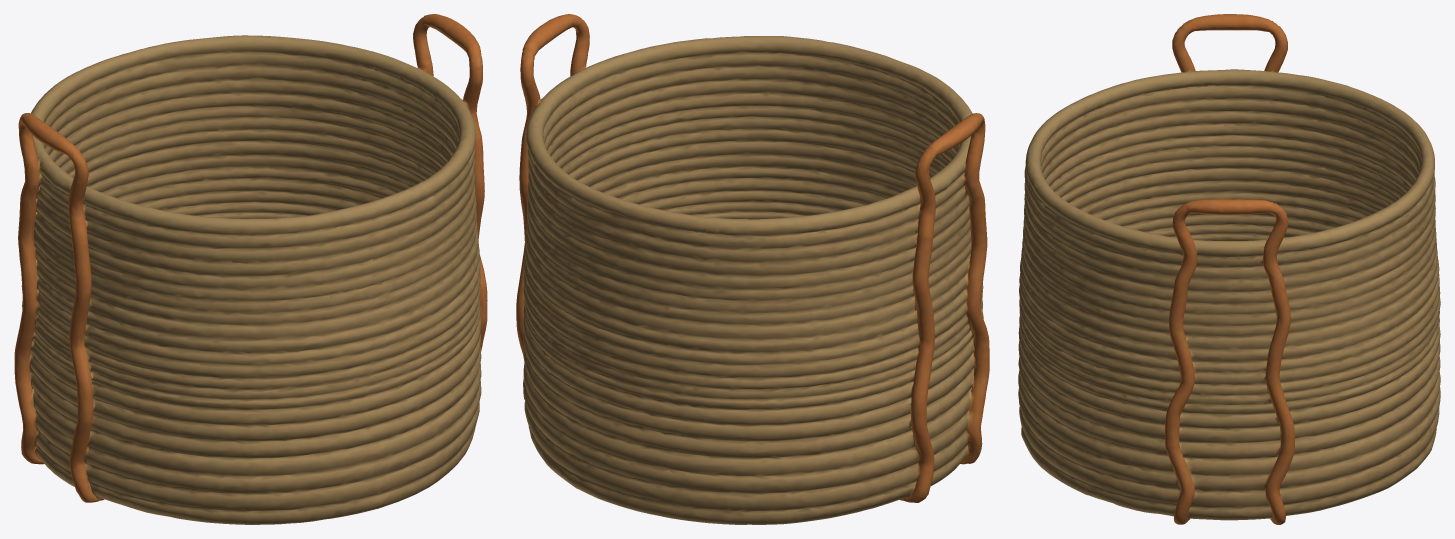
Rendered from niche-basket-coiled-fiber-optimized.glb.
The picture shows the model from 3 angles, left to right: view 1: azimuth 30°, elevation 25°; view 2: azimuth 150°, elevation 25°; view 3: azimuth 270°, elevation 25°; orthographic projection. The views are drawn at different scales.
Visible parts, largest first — view 1: world; view 2: world; view 3: world.
Part boxes in pixels (x1,y1,x2,y2): world: (14,14,487,524); world: (516,14,989,524); world: (1018,14,1440,524).
Bounding box in the file's own units: 1 × 0.8054 × 0.9286.
1 material, 1 textured.
